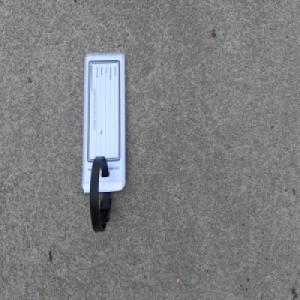LuggageTag: (81, 49, 127, 234)
